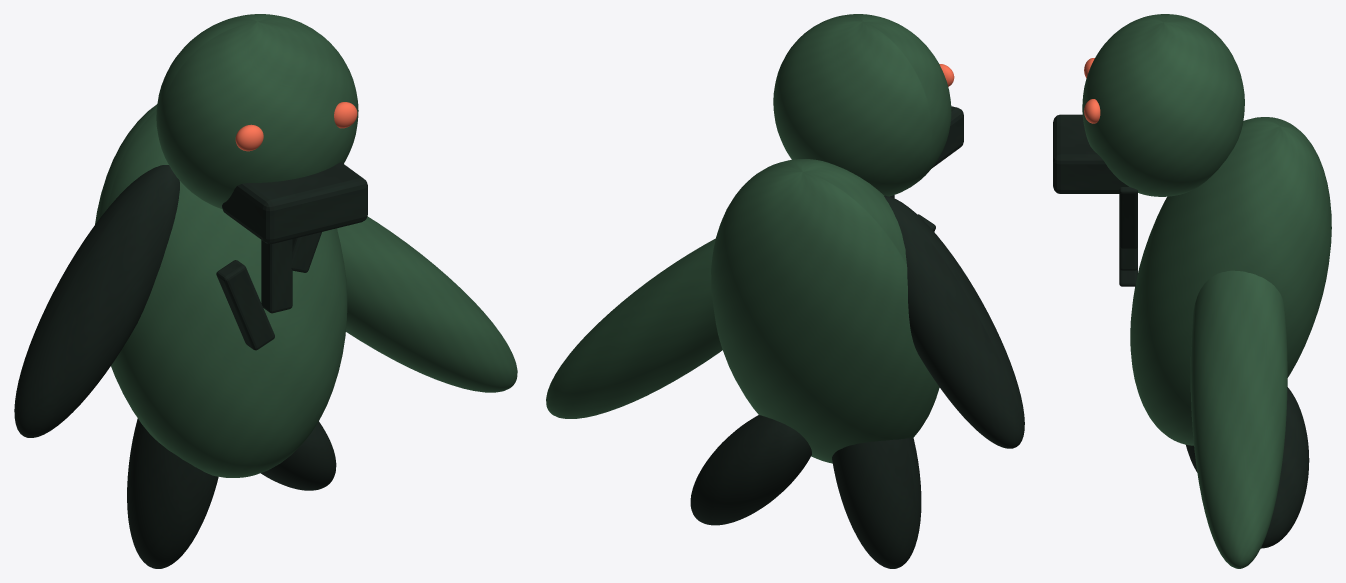
The model's file is monster_Zombie.glb.
3 renders of one model, left to right at view 1: azimuth 30°, elevation 25°; view 2: azimuth 150°, elevation 25°; view 3: azimuth 270°, elevation 25°, orthographic. The views are drawn at different scales.
Visible parts, largest first — view 1: HunchedTorso, DecayedHead, BrokenArm, DraggingArm, StiffLeg, BrokenJaw, DraggingLeg, ExposedRib, ExposedRib.001, ExposedRib.002; view 2: HunchedTorso, DecayedHead, DraggingArm, BrokenArm, StiffLeg, DraggingLeg, BrokenJaw; view 3: HunchedTorso, DraggingArm, DecayedHead, BrokenJaw, DraggingLeg, ExposedRib.002, ExposedRib.001.
Boxes of the visible parts, bbox=[...] form: HunchedTorso: bbox=[95, 104, 347, 477]; DecayedHead: bbox=[156, 14, 358, 209]; BrokenArm: bbox=[14, 165, 179, 437]; DraggingArm: bbox=[337, 216, 517, 392]; StiffLeg: bbox=[127, 418, 218, 568]; BrokenJaw: bbox=[222, 162, 367, 243]; DraggingLeg: bbox=[261, 421, 336, 490]; ExposedRib: bbox=[216, 260, 274, 350]; ExposedRib.001: bbox=[261, 239, 292, 313]; ExposedRib.002: bbox=[291, 232, 321, 272]; HunchedTorso: bbox=[711, 159, 939, 463]; DecayedHead: bbox=[773, 14, 951, 196]; DraggingArm: bbox=[546, 238, 722, 418]; BrokenArm: bbox=[884, 195, 1024, 448]; StiffLeg: bbox=[832, 437, 921, 568]; DraggingLeg: bbox=[690, 415, 811, 525]; BrokenJaw: bbox=[931, 106, 963, 168]; HunchedTorso: bbox=[1130, 117, 1331, 445]; DraggingArm: bbox=[1190, 270, 1287, 568]; DecayedHead: bbox=[1082, 14, 1244, 196]; BrokenJaw: bbox=[1053, 114, 1128, 193]; DraggingLeg: bbox=[1261, 387, 1309, 548]; ExposedRib.002: bbox=[1119, 187, 1137, 248]; ExposedRib.001: bbox=[1119, 246, 1137, 270].
Bounding box in the file's own units: 1.95 × 2.03 × 1.03.
Materials: 3 (2 with a texture image).
